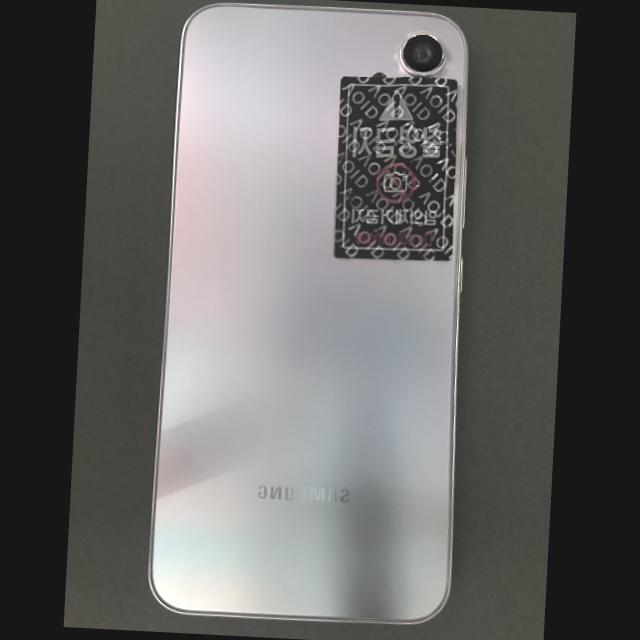lens: (398, 32, 445, 76)
phone: (146, 2, 469, 625)
sticker: (334, 76, 457, 261)
